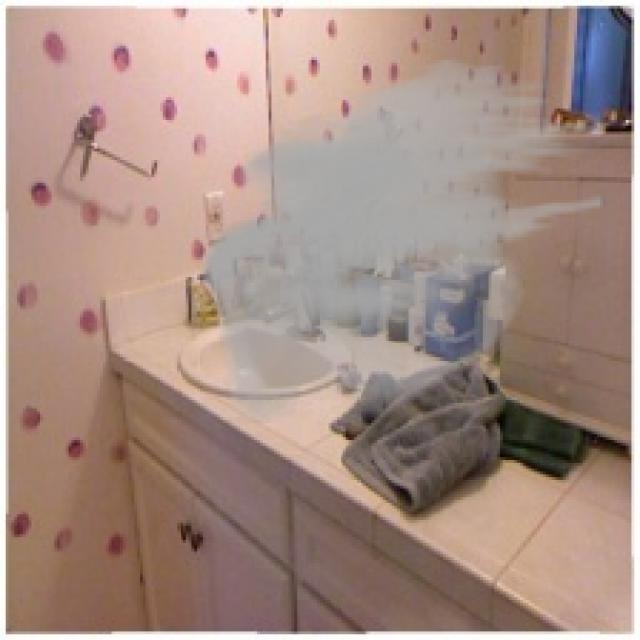Smoke: (203, 54, 606, 423)
